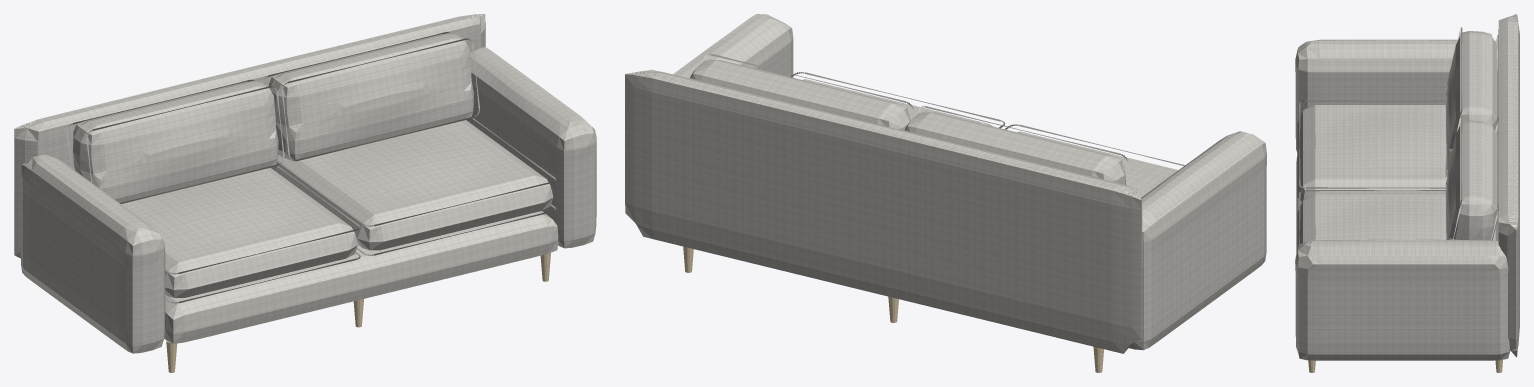
File: LIT-SOF-3-seat.glb
3 views of the same model, side by side, from view 1: azimuth 30°, elevation 25°; view 2: azimuth 150°, elevation 25°; view 3: azimuth 270°, elevation 25° (orthographic). The views are drawn at different scales.
Parts seen in each view (by area): view 1: seat-2:fabric:eyJwcmVzZXQiOiJsaW5lbiIsIndhcnAiOiJ3aGl0ZSIsIn, arm-pad-l:fabric:eyJwcmVzZXQiOiJsaW5lbiIsIndhcnAiOiJ3aGl0ZSI, seat-1:fabric:eyJwcmVzZXQiOiJsaW5lbiIsIndhcnAiOiJ3aGl0ZSIsIn, back-2:fabric:eyJwcmVzZXQiOiJsaW5lbiIsIndhcnAiOiJ3aGl0ZSIsIn, deck:fabric:eyJwcmVzZXQiOiJsaW5lbiIsIndhcnAiOiJ3aGl0ZSIsIndl, back-1:fabric:eyJwcmVzZXQiOiJsaW5lbiIsIndhcnAiOiJ3aGl0ZSIsIn, arm-pad-r:fabric:eyJwcmVzZXQiOiJsaW5lbiIsIndhcnAiOiJ3aGl0ZSI, back-pad:fabric:eyJwcmVzZXQiOiJsaW5lbiIsIndhcnAiOiJ3aGl0ZSIs, back-2:piping:pbr, back-1:piping:pbr, seat-2:piping:pbr, seat-1:piping:pbr; view 2: back-pad:fabric:eyJwcmVzZXQiOiJsaW5lbiIsIndhcnAiOiJ3aGl0ZSIs, arm-pad-l:fabric:eyJwcmVzZXQiOiJsaW5lbiIsIndhcnAiOiJ3aGl0ZSI, back-1:fabric:eyJwcmVzZXQiOiJsaW5lbiIsIndhcnAiOiJ3aGl0ZSIsIn, back-2:fabric:eyJwcmVzZXQiOiJsaW5lbiIsIndhcnAiOiJ3aGl0ZSIsIn, arm-pad-r:fabric:eyJwcmVzZXQiOiJsaW5lbiIsIndhcnAiOiJ3aGl0ZSI, seat-1:fabric:eyJwcmVzZXQiOiJsaW5lbiIsIndhcnAiOiJ3aGl0ZSIsIn, seat-2:fabric:eyJwcmVzZXQiOiJsaW5lbiIsIndhcnAiOiJ3aGl0ZSIsIn, back-1:piping:pbr, back-2:piping:pbr; view 3: arm-pad-r:fabric:eyJwcmVzZXQiOiJsaW5lbiIsIndhcnAiOiJ3aGl0ZSI, seat-1:fabric:eyJwcmVzZXQiOiJsaW5lbiIsIndhcnAiOiJ3aGl0ZSIsIn, arm-pad-l:fabric:eyJwcmVzZXQiOiJsaW5lbiIsIndhcnAiOiJ3aGl0ZSI, seat-2:fabric:eyJwcmVzZXQiOiJsaW5lbiIsIndhcnAiOiJ3aGl0ZSIsIn, back-pad:fabric:eyJwcmVzZXQiOiJsaW5lbiIsIndhcnAiOiJ3aGl0ZSIs, back-2:fabric:eyJwcmVzZXQiOiJsaW5lbiIsIndhcnAiOiJ3aGl0ZSIsIn, back-1:fabric:eyJwcmVzZXQiOiJsaW5lbiIsIndhcnAiOiJ3aGl0ZSIsIn, seat-1:piping:pbr, back-2:piping:pbr, back-1:piping:pbr, seat-2:piping:pbr, deck:fabric:eyJwcmVzZXQiOiJsaW5lbiIsIndhcnAiOiJ3aGl0ZSIsIndl.
Part boxes in pixels (x1,y1,x2,y2): seat-2:fabric:eyJwcmVzZXQiOiJsaW5lbiIsIndhcnAiOiJ3aGl0ZSIsIn: (271,120,553,250); arm-pad-l:fabric:eyJwcmVzZXQiOiJsaW5lbiIsIndhcnAiOiJ3aGl0ZSI: (20,154,165,353); seat-1:fabric:eyJwcmVzZXQiOiJsaW5lbiIsIndhcnAiOiJ3aGl0ZSIsIn: (121,167,357,297); back-2:fabric:eyJwcmVzZXQiOiJsaW5lbiIsIndhcnAiOiJ3aGl0ZSIsIn: (269,33,473,160); deck:fabric:eyJwcmVzZXQiOiJsaW5lbiIsIndhcnAiOiJ3aGl0ZSIsIndl: (164,211,558,343); back-1:fabric:eyJwcmVzZXQiOiJsaW5lbiIsIndhcnAiOiJ3aGl0ZSIsIn: (73,81,278,203); arm-pad-r:fabric:eyJwcmVzZXQiOiJsaW5lbiIsIndhcnAiOiJ3aGl0ZSI: (466,47,596,248); back-pad:fabric:eyJwcmVzZXQiOiJsaW5lbiIsIndhcnAiOiJ3aGl0ZSIs: (14,14,485,258); back-2:piping:pbr: (262,32,479,161); back-1:piping:pbr: (66,79,284,203); seat-2:piping:pbr: (277,118,556,255); seat-1:piping:pbr: (165,166,360,303); back-pad:fabric:eyJwcmVzZXQiOiJsaW5lbiIsIndhcnAiOiJ3aGl0ZSIs: (625,70,1142,353); arm-pad-l:fabric:eyJwcmVzZXQiOiJsaW5lbiIsIndhcnAiOiJ3aGl0ZSI: (1129,131,1266,350); back-1:fabric:eyJwcmVzZXQiOiJsaW5lbiIsIndhcnAiOiJ3aGl0ZSIsIn: (905,111,1126,184); back-2:fabric:eyJwcmVzZXQiOiJsaW5lbiIsIndhcnAiOiJ3aGl0ZSIsIn: (690,59,910,130); arm-pad-r:fabric:eyJwcmVzZXQiOiJsaW5lbiIsIndhcnAiOiJ3aGl0ZSI: (673,14,793,78); seat-1:fabric:eyJwcmVzZXQiOiJsaW5lbiIsIndhcnAiOiJ3aGl0ZSIsIn: (1017,131,1178,197); seat-2:fabric:eyJwcmVzZXQiOiJsaW5lbiIsIndhcnAiOiJ3aGl0ZSIsIn: (803,79,993,126); back-1:piping:pbr: (902,106,1131,186); back-2:piping:pbr: (689,53,914,125); arm-pad-r:fabric:eyJwcmVzZXQiOiJsaW5lbiIsIndhcnAiOiJ3aGl0ZSI: (1295,239,1510,360); seat-1:fabric:eyJwcmVzZXQiOiJsaW5lbiIsIndhcnAiOiJ3aGl0ZSIsIn: (1297,105,1498,203); arm-pad-l:fabric:eyJwcmVzZXQiOiJsaW5lbiIsIndhcnAiOiJ3aGl0ZSI: (1295,39,1498,152); seat-2:fabric:eyJwcmVzZXQiOiJsaW5lbiIsIndhcnAiOiJ3aGl0ZSIsIn: (1297,194,1498,249); back-pad:fabric:eyJwcmVzZXQiOiJsaW5lbiIsIndhcnAiOiJ3aGl0ZSIs: (1498,14,1519,357); back-2:fabric:eyJwcmVzZXQiOiJsaW5lbiIsIndhcnAiOiJ3aGl0ZSIsIn: (1446,120,1497,240); back-1:fabric:eyJwcmVzZXQiOiJsaW5lbiIsIndhcnAiOiJ3aGl0ZSIsIn: (1446,31,1497,170); seat-1:piping:pbr: (1299,100,1445,208); back-2:piping:pbr: (1445,117,1498,239); back-1:piping:pbr: (1445,27,1498,178); seat-2:piping:pbr: (1299,189,1495,244); deck:fabric:eyJwcmVzZXQiOiJsaW5lbiIsIndhcnAiOiJ3aGl0ZSIsIndl: (1296,156,1498,253).
Bounding box in the file's own units: 2.1 × 0.78 × 0.92.
Materials: 18 (8 with a texture image).
